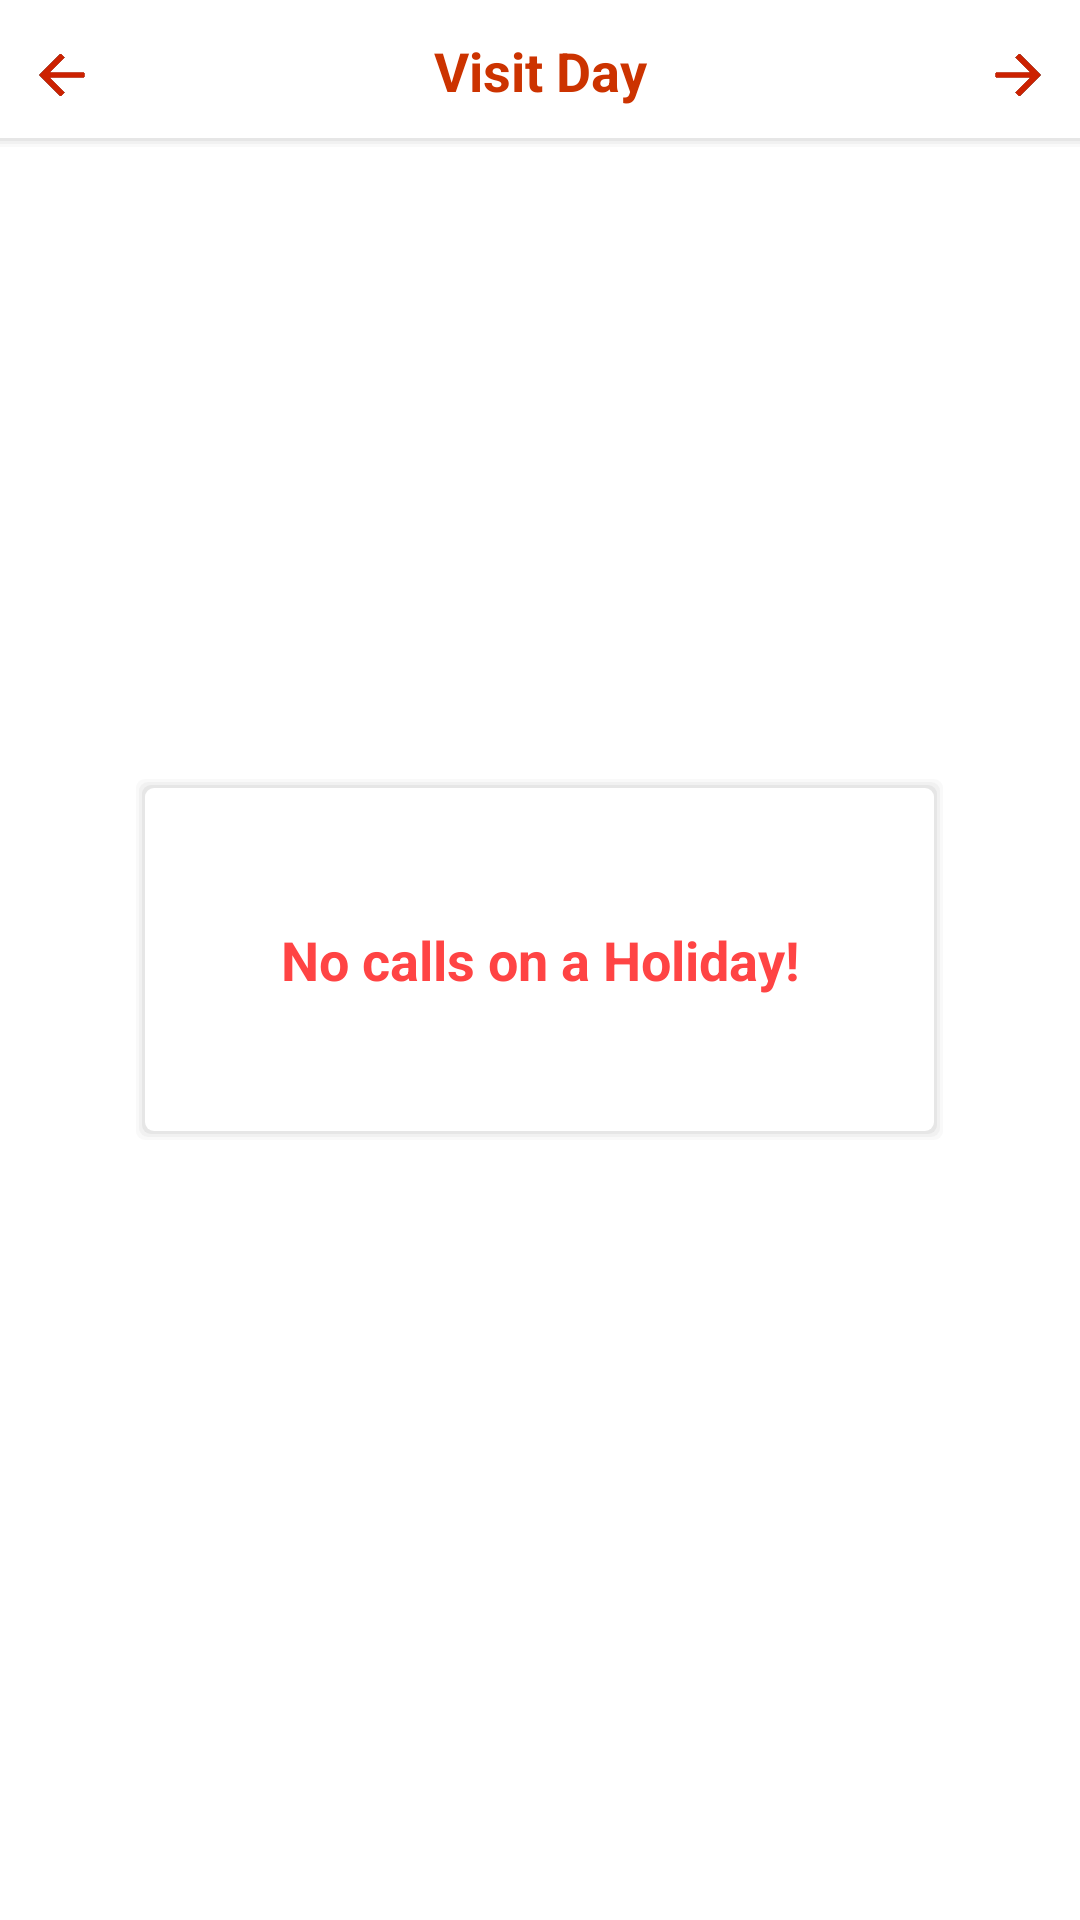

Screen size 1080px×1920px. Icon name, then its center in pixels as (x=x, y=y):
back: (x=62, y=75)
forward: (x=1018, y=75)
